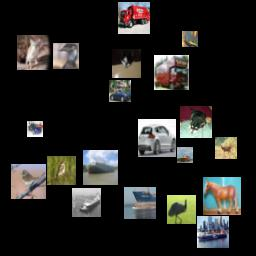airplane: (182, 31, 198, 47)
automobile: (138, 119, 176, 157), (109, 80, 131, 102), (27, 121, 43, 137)
bird: (11, 164, 46, 199), (167, 195, 196, 224), (47, 156, 76, 185), (53, 43, 79, 69)
cat: (17, 35, 52, 70), (112, 49, 141, 78)
deer: (215, 137, 237, 159)
dog: (180, 106, 212, 138)
ship: (83, 150, 118, 185), (124, 187, 156, 219), (197, 216, 229, 248), (72, 188, 101, 217)
truck: (154, 55, 189, 90), (118, 2, 150, 34), (177, 147, 193, 163)
